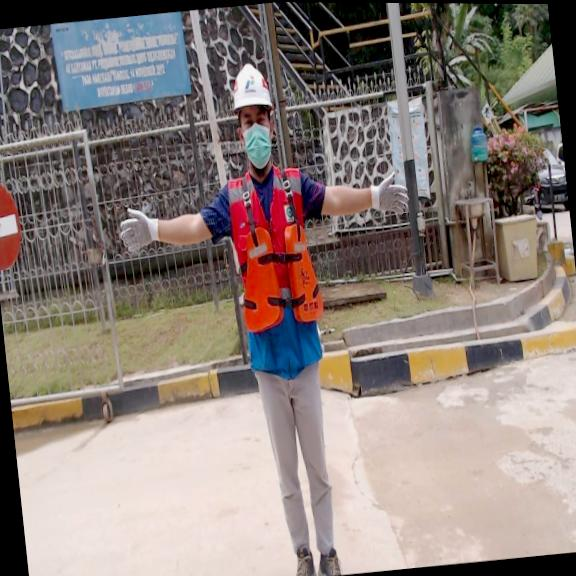safety_vest: (232, 219, 327, 337)
